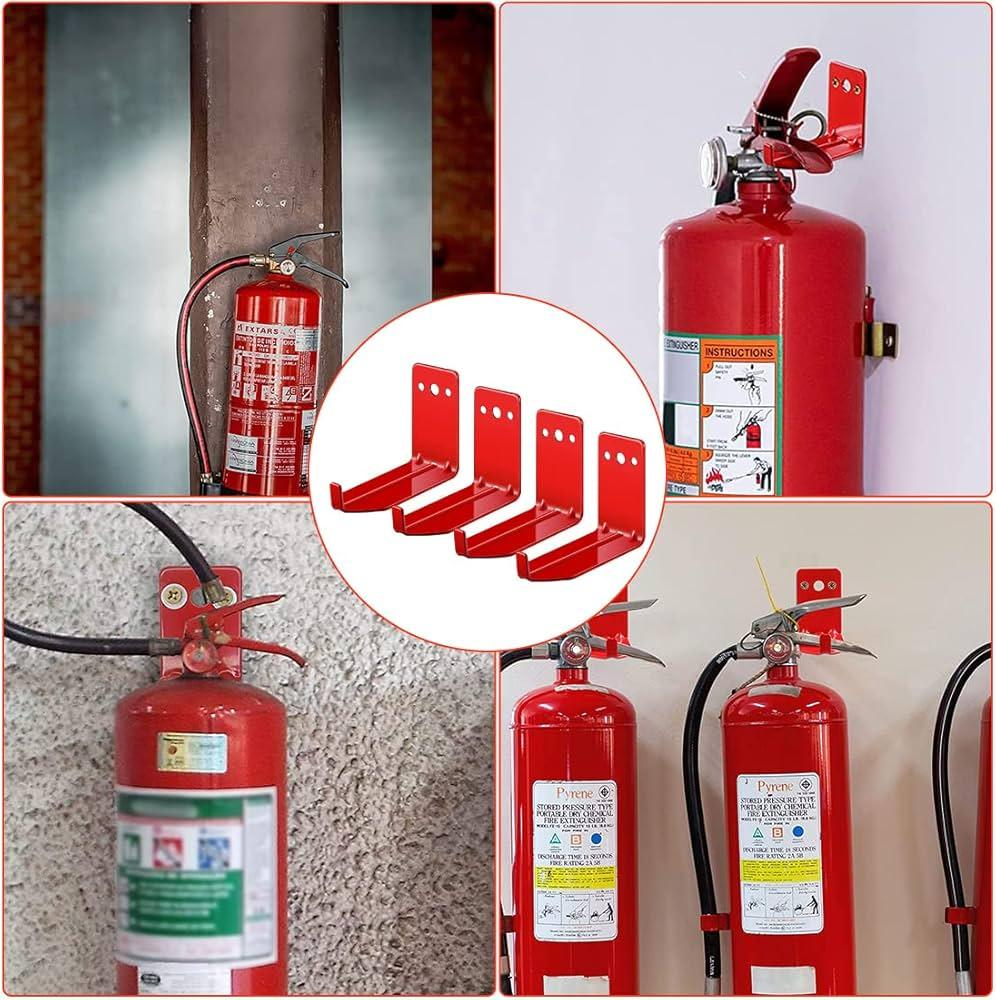wall-mounted: (32, 538, 333, 1000), (620, 32, 922, 490), (680, 577, 872, 1000), (508, 652, 657, 1000), (152, 205, 315, 488)
